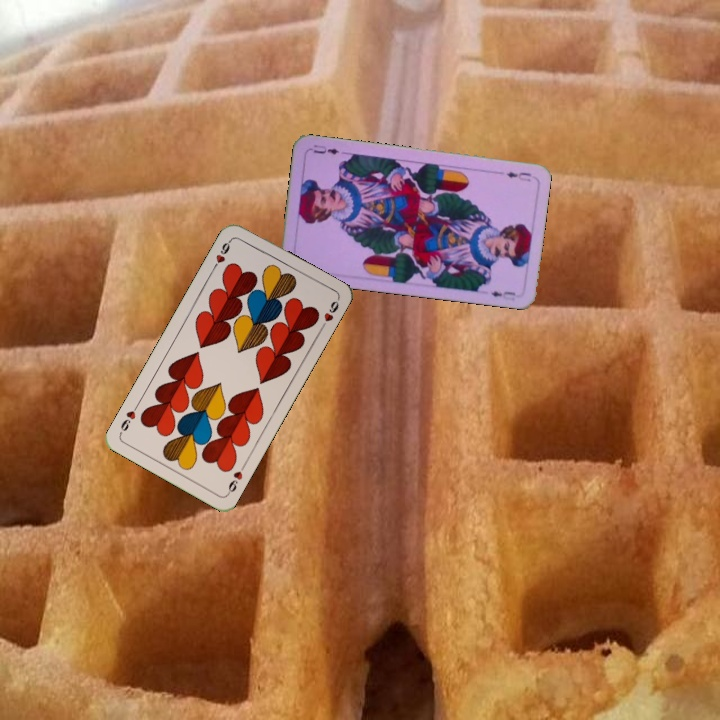EU: (502, 168, 533, 184)
H9: (208, 235, 234, 272), (223, 460, 248, 497)
